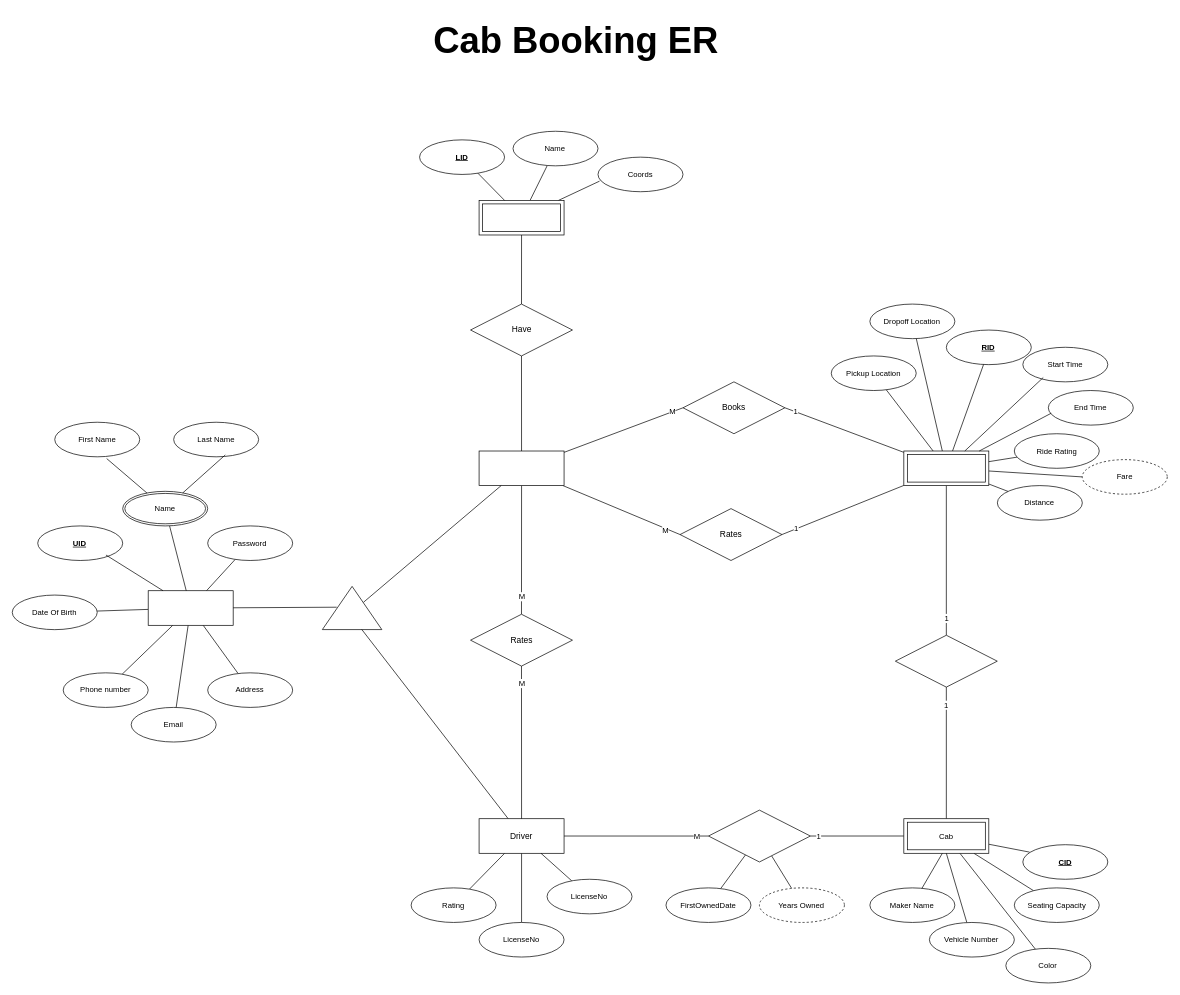
Image size: 1180x995. Some labels were removed from this diagram. Each missing label, with the centre of its shape:
"Chosen" goes at (946,661).
"Favorite Locations" goes at (521,217).
"ISA" goes at (352,608).
"Owns" goes at (759,835).
"Passenger" goes at (521,468).
"Ride" goes at (946,468).
"User" goes at (190,607).
